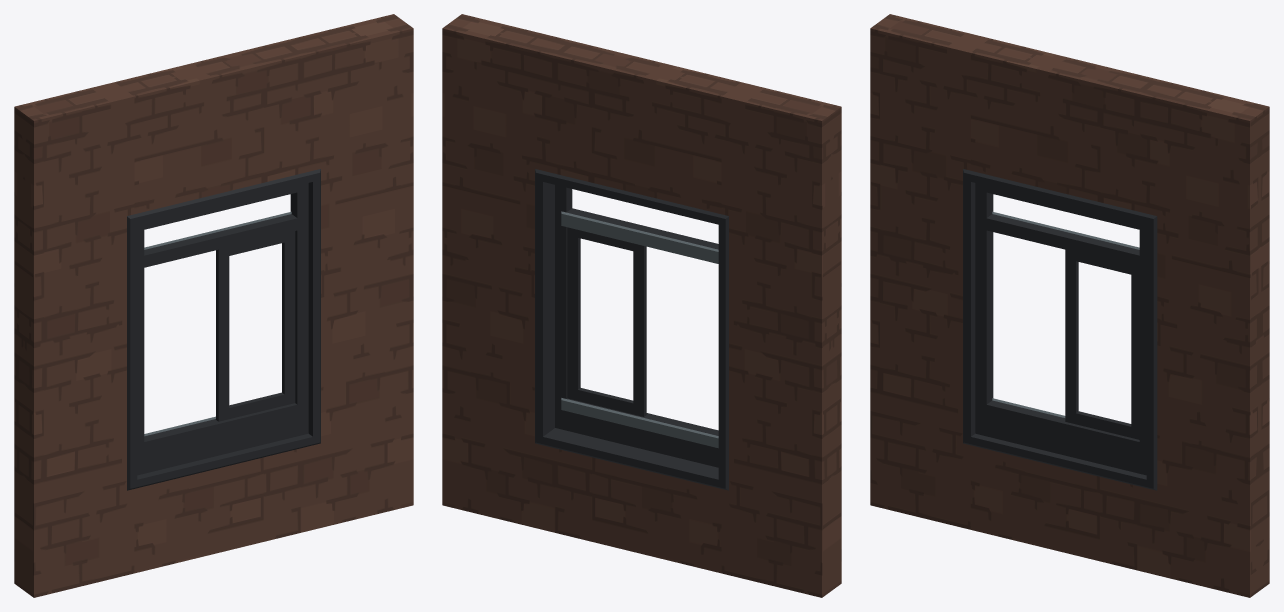
The model's file is SM_Bld_Wall_Window_Drive_Thru_02.obj.
The picture shows the model from 3 angles, left to right: view 1: azimuth 30°, elevation 25°; view 2: azimuth 150°, elevation 25°; view 3: azimuth 330°, elevation 25°; orthographic projection.
Visible parts, largest first — view 1: SM_Bld_Wall_Window_Drive_Thru_02_2, SM_Bld_Wall_Window_Drive_Thru_02_0, SM_Bld_Wall_Window_Drive_Thru_02_1; view 2: SM_Bld_Wall_Window_Drive_Thru_02_1, SM_Bld_Wall_Window_Drive_Thru_02_0, SM_Bld_Wall_Window_Drive_Thru_02_2; view 3: SM_Bld_Wall_Window_Drive_Thru_02_2, SM_Bld_Wall_Window_Drive_Thru_02_0, SM_Bld_Wall_Window_Drive_Thru_02_1.
Boxes of the visible parts, bbox=[...] form: SM_Bld_Wall_Window_Drive_Thru_02_2: bbox=[24, 21, 413, 597]; SM_Bld_Wall_Window_Drive_Thru_02_0: bbox=[127, 169, 320, 490]; SM_Bld_Wall_Window_Drive_Thru_02_1: bbox=[14, 14, 403, 590]; SM_Bld_Wall_Window_Drive_Thru_02_1: bbox=[442, 21, 831, 597]; SM_Bld_Wall_Window_Drive_Thru_02_0: bbox=[535, 169, 728, 490]; SM_Bld_Wall_Window_Drive_Thru_02_2: bbox=[452, 14, 841, 590]; SM_Bld_Wall_Window_Drive_Thru_02_2: bbox=[870, 21, 1259, 597]; SM_Bld_Wall_Window_Drive_Thru_02_0: bbox=[963, 169, 1157, 490]; SM_Bld_Wall_Window_Drive_Thru_02_1: bbox=[880, 14, 1269, 590].
Bounding box in the file's own units: 2.5 × 3 × 0.2556.
Materials: 3 (3 with a texture image).
